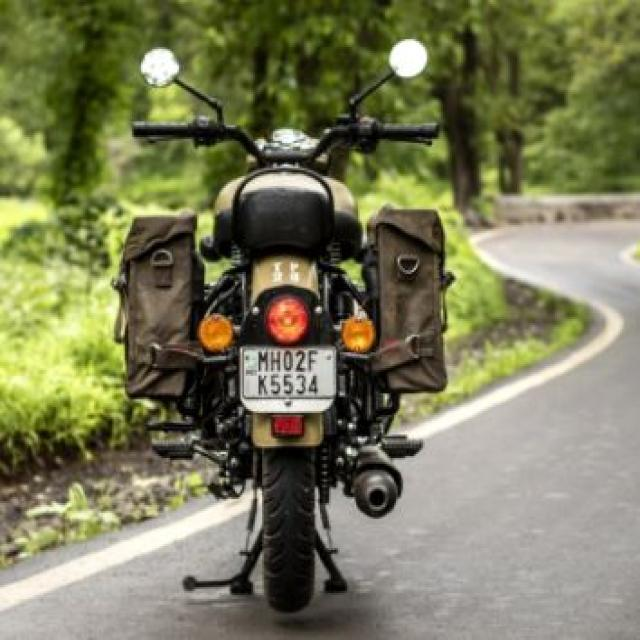number plate: (237, 343, 338, 411)
